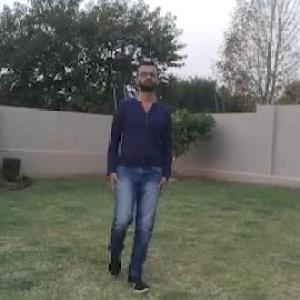follow: (106, 53, 172, 279)
